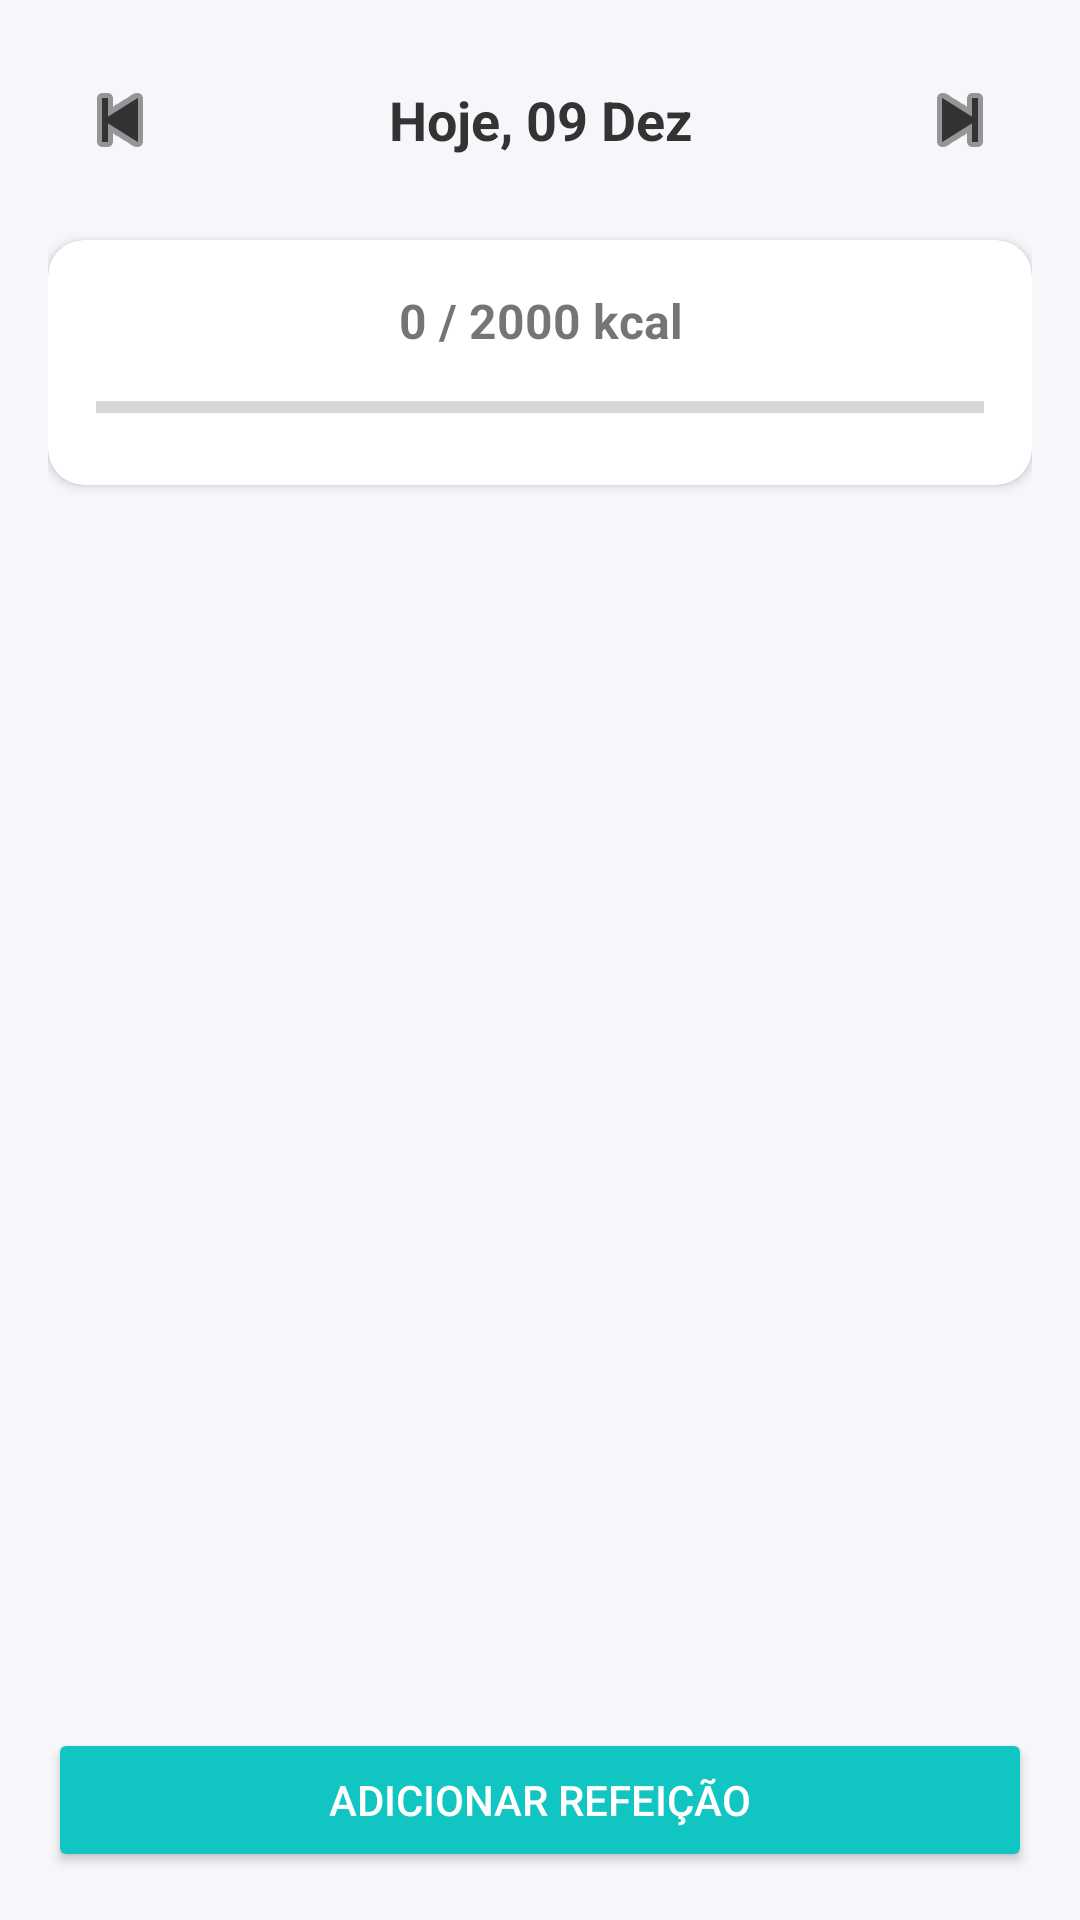

Where icons sit on this 1080w x 1920h app screen, as (x1, y1, x2, y2):
next: (937, 93, 983, 147)
previous: (97, 93, 143, 147)
